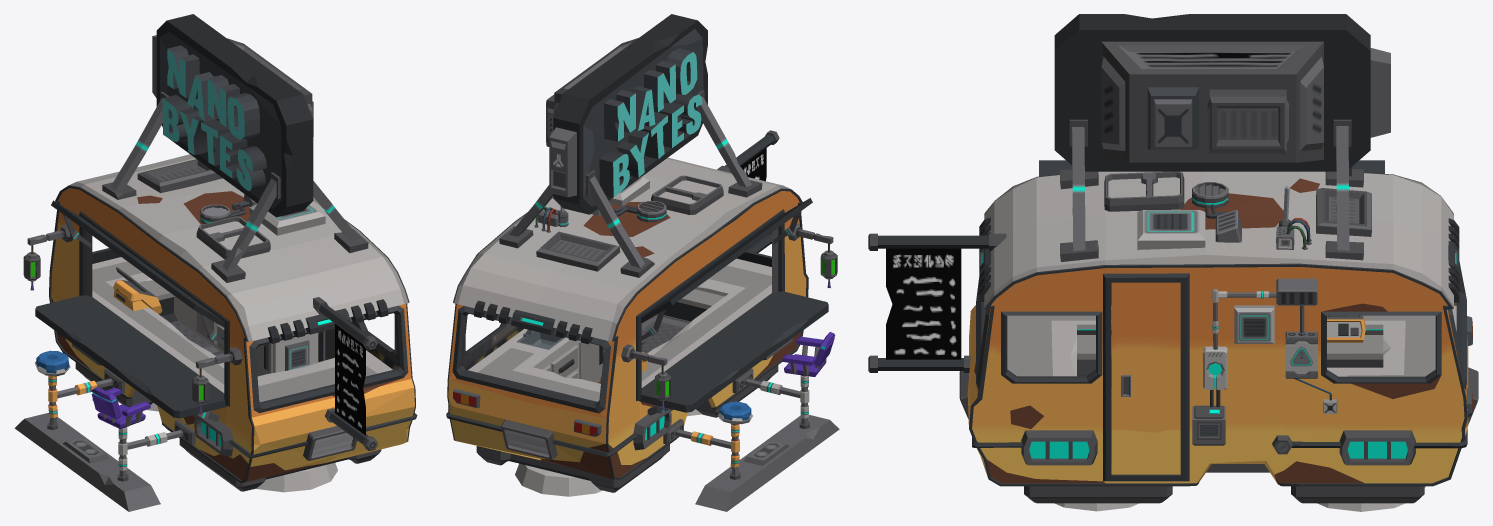
The model's file is SM_Veh_Food_Trailer_01.fbx.
The picture shows the model from 3 angles, left to right: view 1: azimuth 30°, elevation 25°; view 2: azimuth 150°, elevation 25°; view 3: azimuth 270°, elevation 25°; orthographic projection. The views are drawn at different scales.
Parts seen in each view (by area): view 1: SM_Veh_Food_Trailer_01; view 2: SM_Veh_Food_Trailer_01; view 3: SM_Veh_Food_Trailer_01.
Part boxes in pixels (<box>): SM_Veh_Food_Trailer_01: <box>14,14,417,511</box>; SM_Veh_Food_Trailer_01: <box>446,14,839,511</box>; SM_Veh_Food_Trailer_01: <box>868,14,1478,511</box>.
Bounding box in the file's own units: 391 × 536 × 643.
